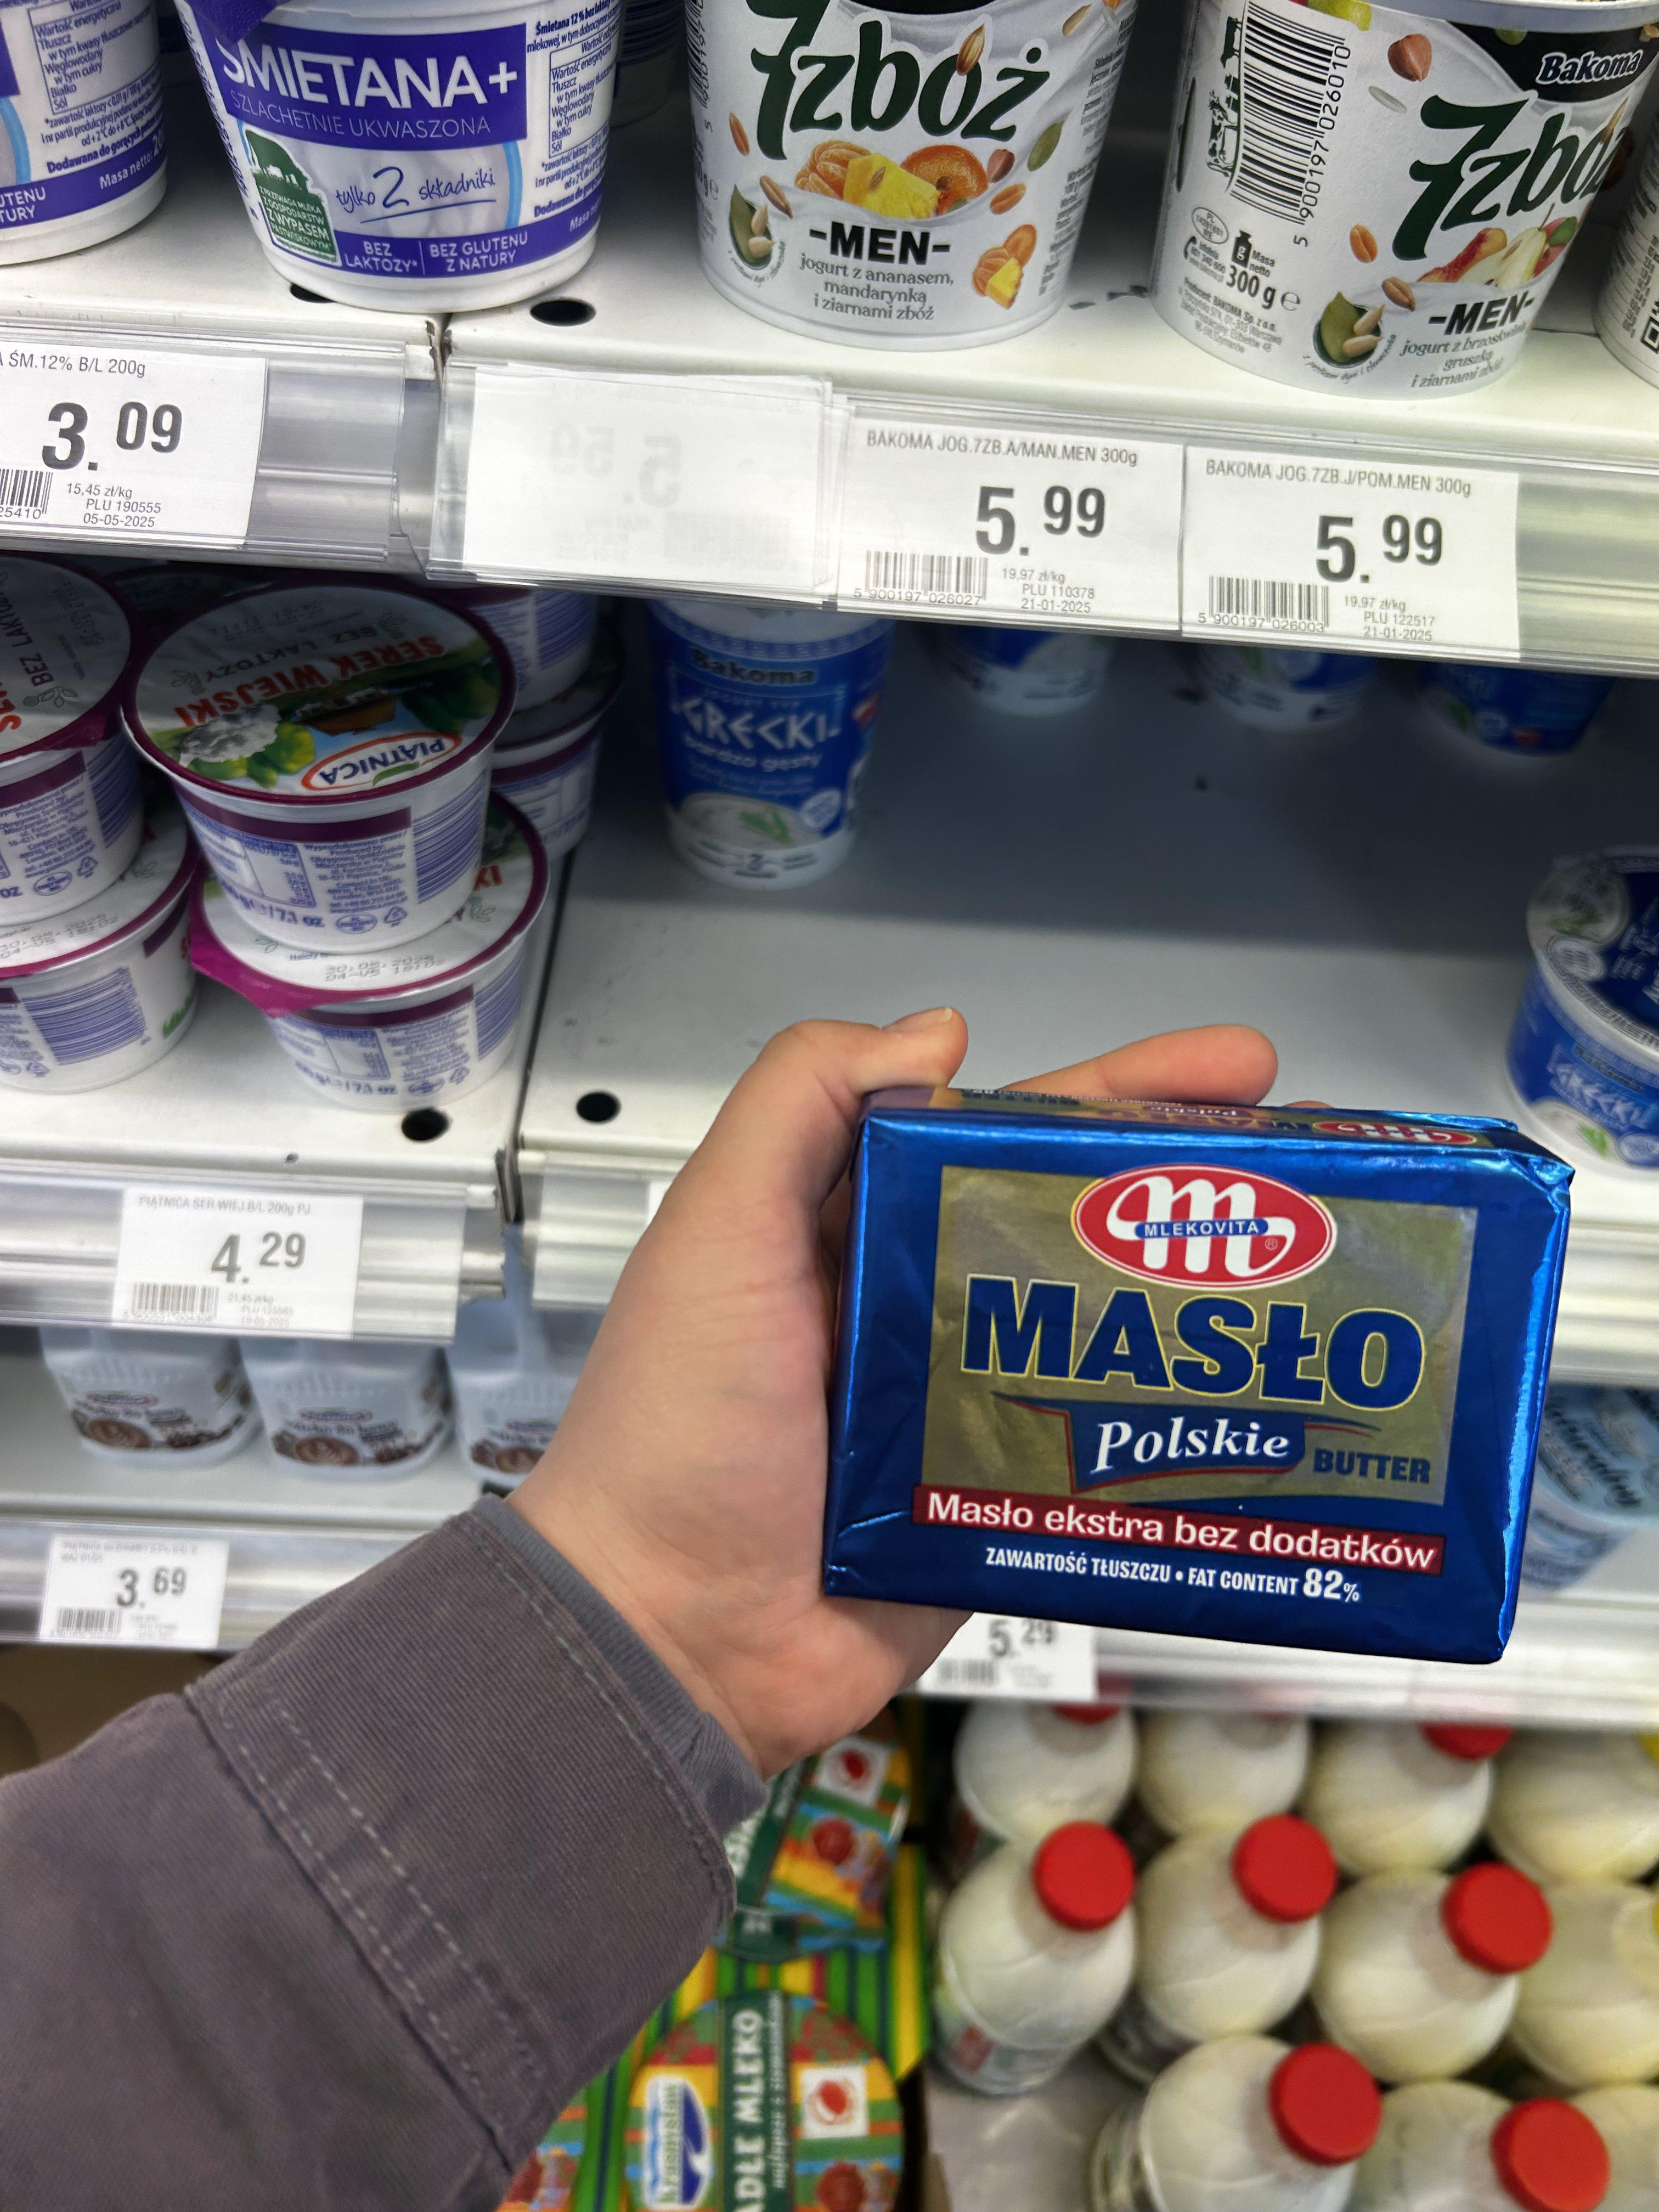Butter: (816, 1062, 1518, 1656)
